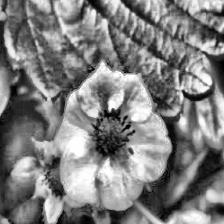Blossom Blight: (86, 106, 138, 164)
